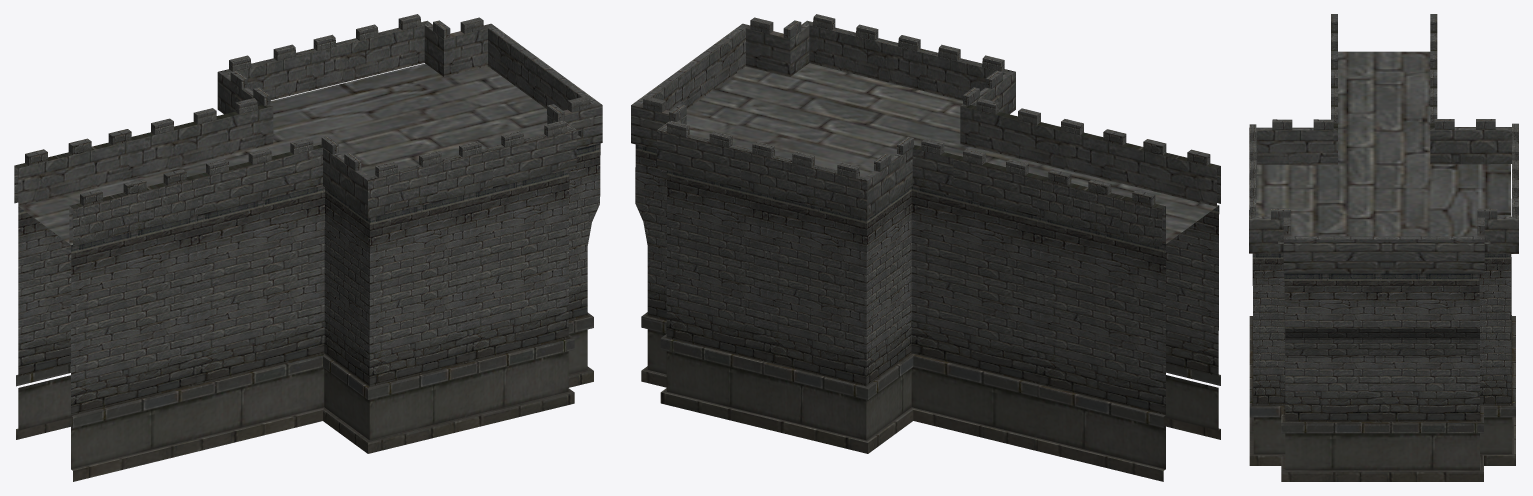
The model's file is s7_fightpve_chengqiang02.FBX.
3 views of the same model, side by side, from view 1: azimuth 30°, elevation 25°; view 2: azimuth 150°, elevation 25°; view 3: azimuth 270°, elevation 25° (orthographic). The views are drawn at different scales.
Visible parts, largest first — view 1: Object21; view 2: Object21; view 3: Object21.
Part boxes in pixels (x1,y1,x2,y2): Object21: (14,14,602,481); Object21: (631,14,1220,481); Object21: (1249,14,1518,481).
Size of the model in its own units: 2778 by 1489 by 1427.
